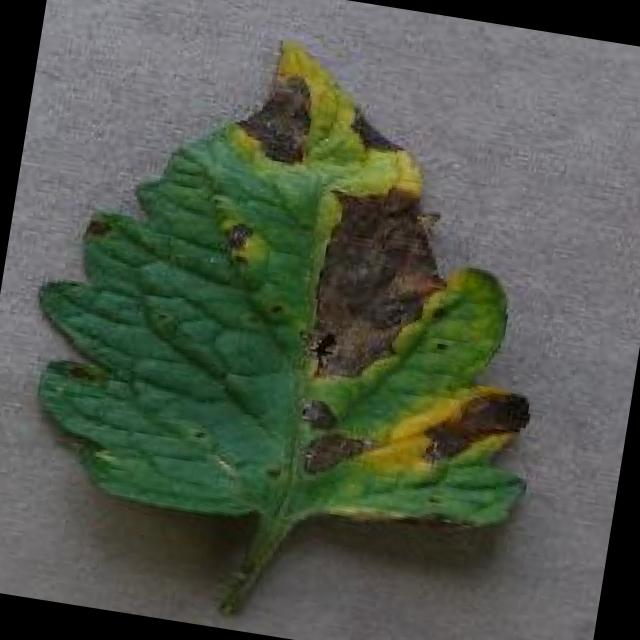Tomato_Early_Blight: (155, 22, 585, 560)
